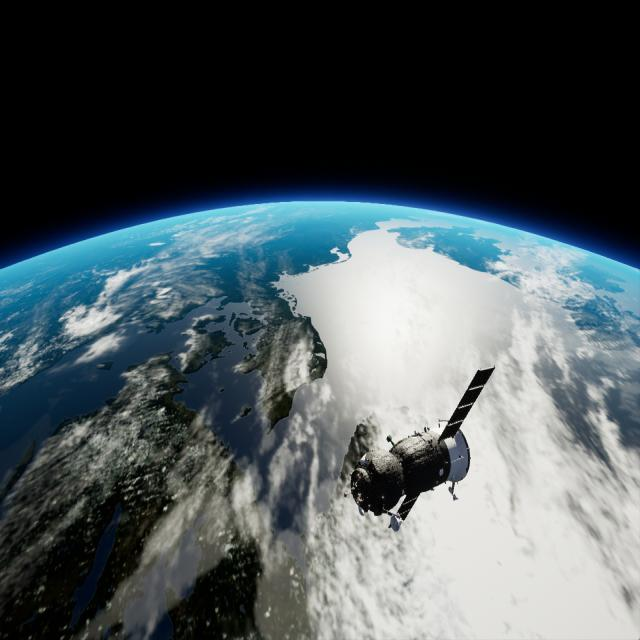Satellites revolving around earth: (1, 199, 639, 638), (347, 362, 497, 532)
